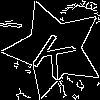K: (29, 24, 84, 81)
